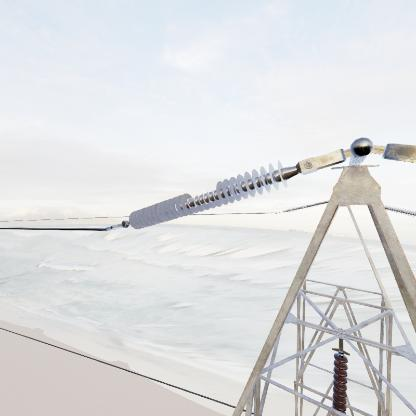insulator: (125, 159, 290, 231)
